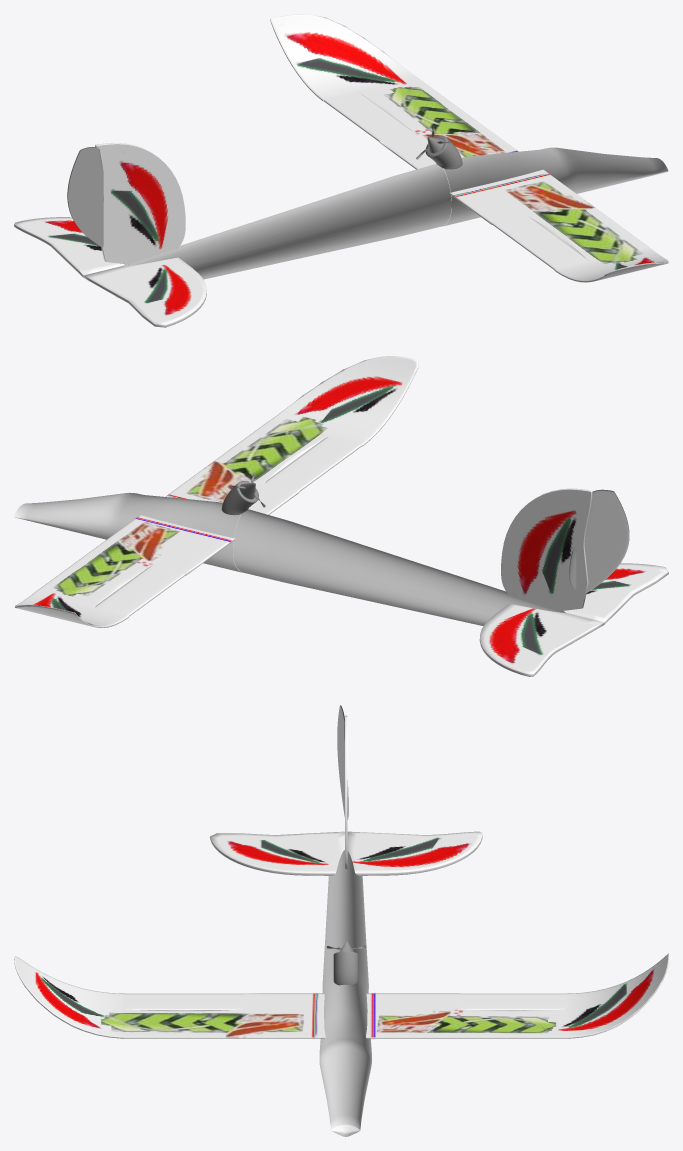
The model's file is chonglangzhe.FBX.
3 renders of one model, top to bottom at view 1: azimuth 30°, elevation 25°; view 2: azimuth 150°, elevation 25°; view 3: azimuth 270°, elevation 25°, orthographic. The views are drawn at different scales.
Parts seen in each view (by area): view 1: jishnem, jiyi, houyie, yua; view 2: jishnem, jiyi, houyie, yua; view 3: jishnem, jiyi, yua, houyie.
Boxes of the visible parts, x1,y1,x2,y2 form: jishnem: (14,14,668,327); jiyi: (324,92,588,269); houyie: (67,147,103,247); yua: (425,135,462,169); jishnem: (14,356,668,676); jiyi: (95,436,361,616); houyie: (569,489,629,592); yua: (221,480,258,515); jishnem: (14,715,668,1136); jiyi: (124,993,566,1010); yua: (333,951,358,985); houyie: (337,705,348,819).
Bounding box in the file's own units: 195 × 51.65 × 192.
4 materials, 2 textured.
